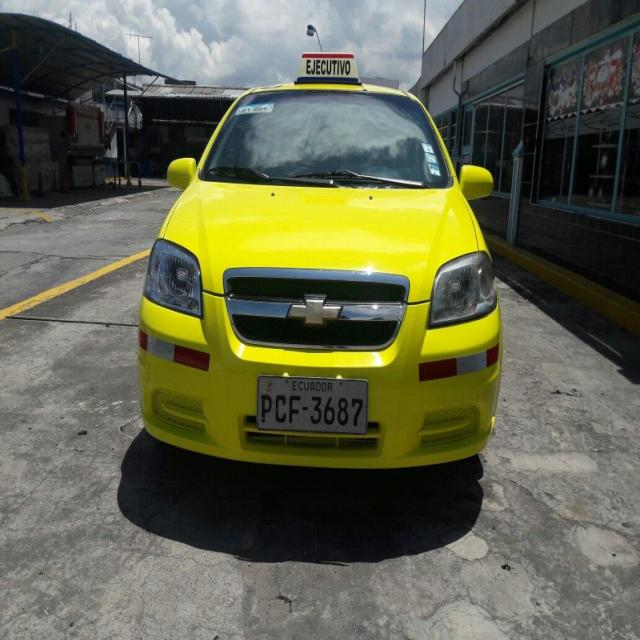Taxi: (156, 41, 523, 488)
